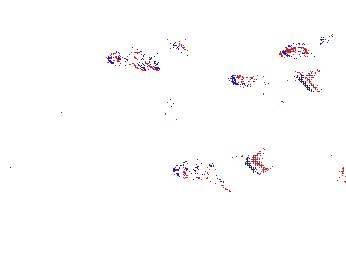red belly glassfish: (280, 40, 322, 58)
redtail glassfish: (174, 138, 264, 180), (108, 30, 194, 70), (226, 64, 320, 100), (163, 94, 181, 121)
